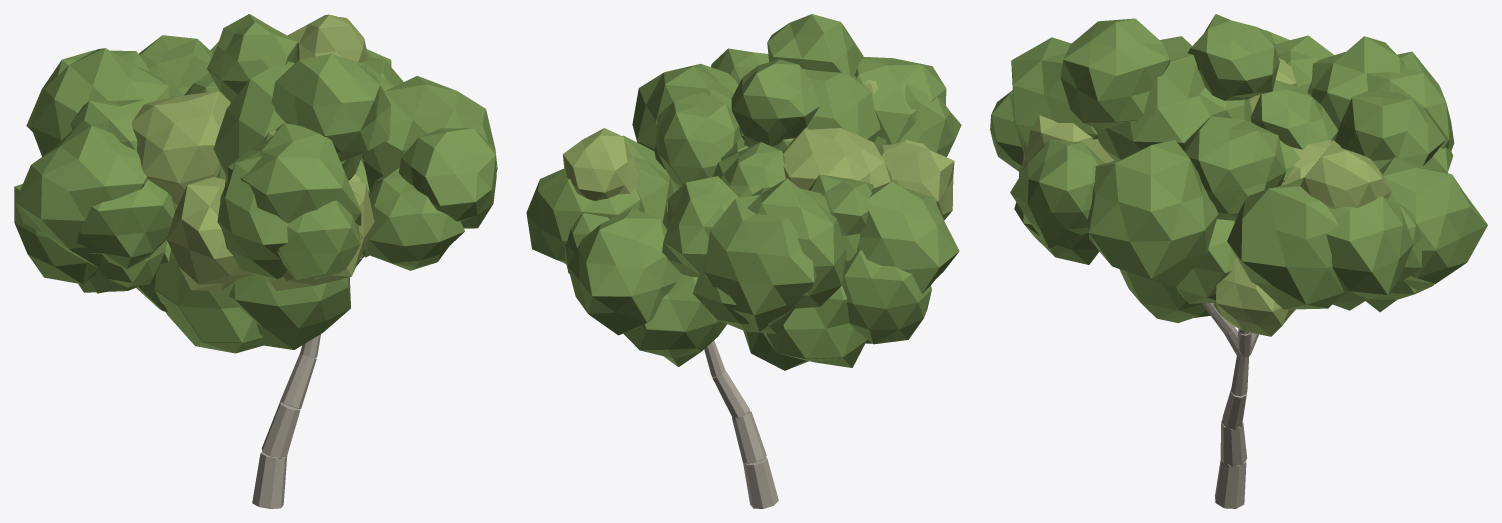
Rendered from PlaneTree.fbx.
3 renders of one model, left to right at view 1: azimuth 30°, elevation 25°; view 2: azimuth 150°, elevation 25°; view 3: azimuth 270°, elevation 25°, orthographic. The views are drawn at different scales.
Visible parts, largest first — view 1: PlaneTree; view 2: PlaneTree; view 3: PlaneTree.
Boxes of the visible parts, <box> form: PlaneTree: <box>14,14,497,508</box>; PlaneTree: <box>526,14,961,508</box>; PlaneTree: <box>990,14,1487,508</box>.
Size of the model in its own units: 9.38 by 10.81 by 10.08.
